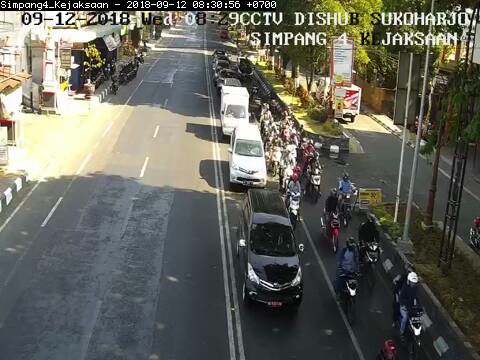motor: (392, 261, 431, 360), (358, 212, 385, 293), (337, 236, 361, 325), (320, 188, 343, 253), (285, 170, 304, 230), (337, 172, 357, 225), (307, 152, 324, 203)
